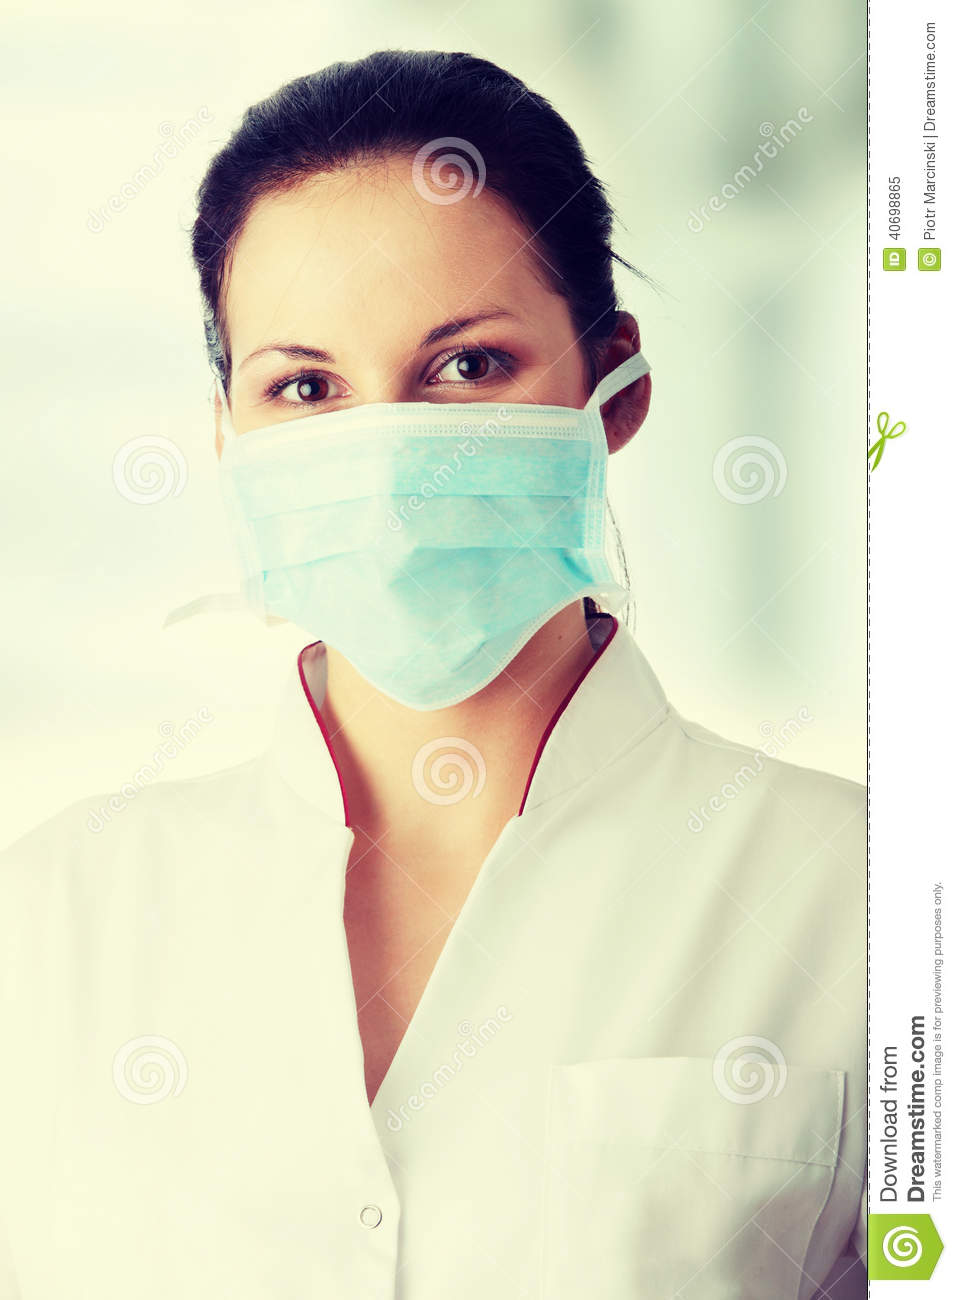mask: (224, 406, 619, 707)
